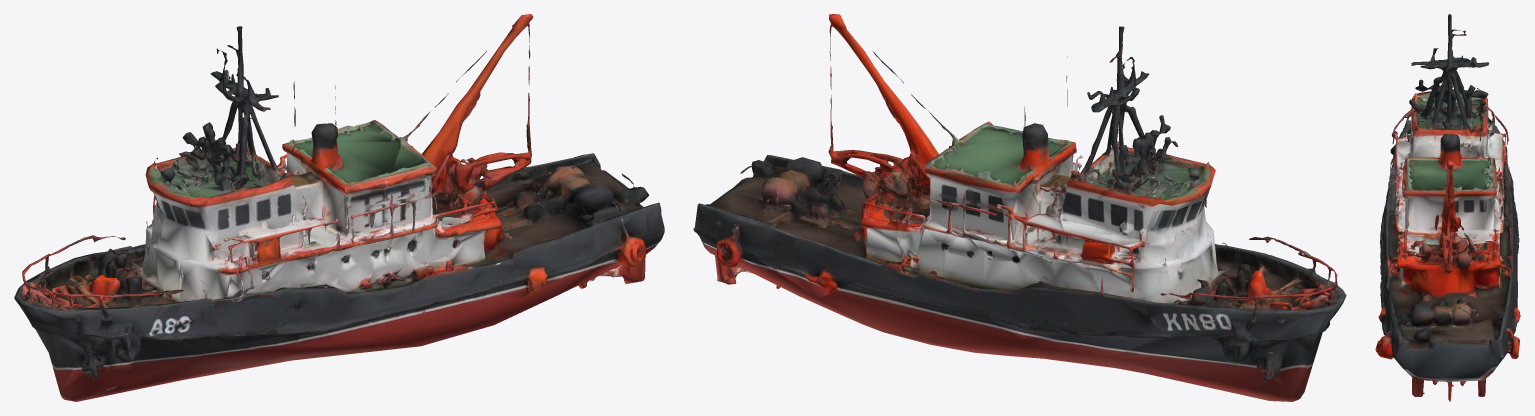
Rendered from fishing.glb.
The picture shows the model from 3 angles, left to right: view 1: azimuth 30°, elevation 25°; view 2: azimuth 150°, elevation 25°; view 3: azimuth 270°, elevation 25°; orthographic projection. The views are drawn at different scales.
Size of the model in its own units: 2 by 1.05 by 0.5548.
1 material, 1 textured.
